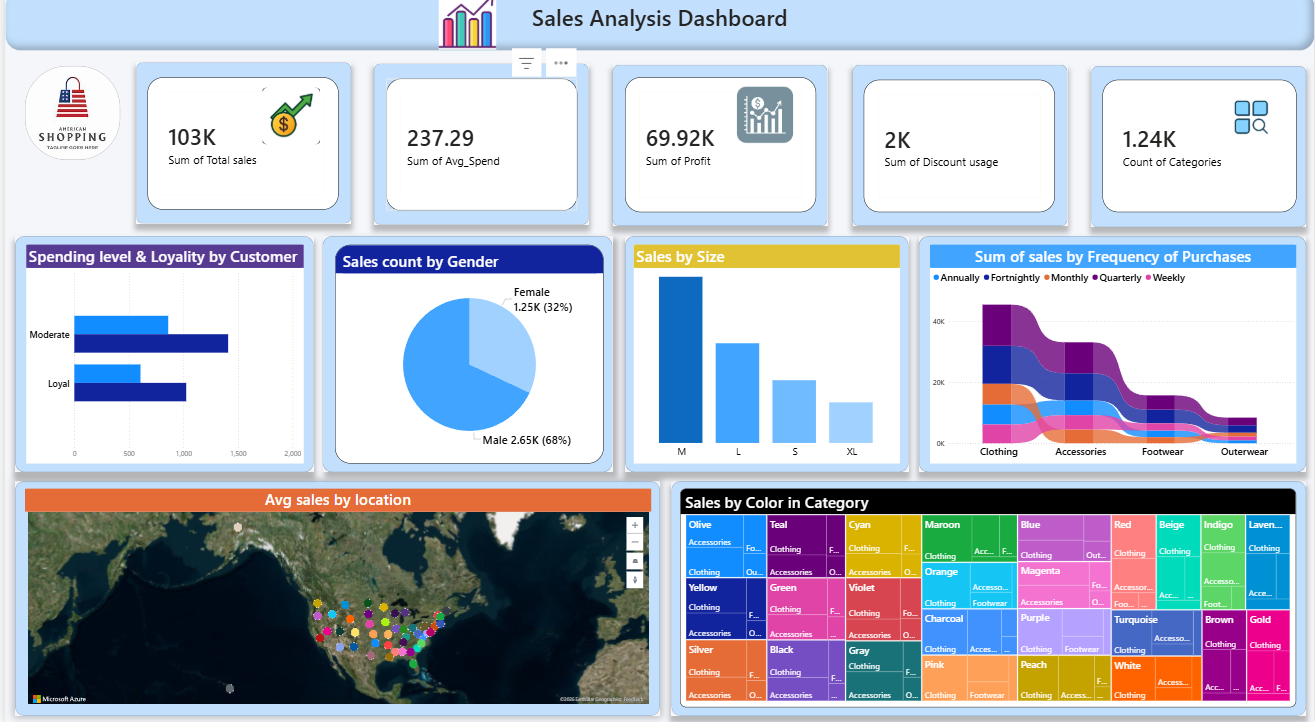

The page's visual inventory and layout, read from the dashboard file:
{"tool":"powerbi","page":{"name":"Sales Analysis","canvas":[2500,1400],"ordinal":0},"visuals":[{"type":"textbox","box":[0,0,2500.4,114.5],"z":0},{"type":"shape","box":[19.1,935.2,1231.1,448.5],"z":1000},{"type":"shape","box":[704.4,137.8,410.4,307.8],"z":2000},{"type":"shape","box":[1160.7,139.6,410.4,307.8],"z":3000},{"type":"shape","box":[1617,141.4,410.4,307.8],"z":4000},{"type":"shape","box":[2073.3,143.2,410.4,307.8],"z":5000},{"type":"shape","box":[250.5,136,410.4,307.8],"z":6000},{"type":"shape","box":[19.1,467.6,570.2,450.9],"z":7000},{"type":"shape","box":[606,467.6,553.5,450.9],"z":8000},{"type":"shape","box":[1183.4,467.6,541.6,450.9],"z":9000},{"type":"shape","box":[1744,467.6,739.6,450.9],"z":10000},{"type":"shape","box":[1271.6,935.2,1212,448.5],"z":11000},{"type":"cardVisual","fields":{"Data":["CountNonNull(project_shopping_trends.Accessories)"]},"box":[2094.8,169.4,370,252.9],"z":12000},{"type":"cardVisual","fields":{"Data":["Sum(project_shopping_trends.Total sales)"]},"box":[272,164.6,365,252.9],"z":13000},{"type":"cardVisual","fields":{"Data":["Sum(Analysis.Avg_Spend)"]},"box":[727.7,167,365,252.9],"z":14000},{"type":"cardVisual","fields":{"Data":["Sum(project_shopping_trends.Profit)"]},"box":[1183.4,164.6,365,257.7],"z":15000},{"type":"cardVisual","fields":{"Data":["Sum(project_shopping_trends.Discount usage)"]},"box":[1639.1,169.4,365,252.9],"z":16000},{"type":"image","box":[38.2,143.2,181.3,178.9],"z":17000},{"type":"azureMap","title":"Avg sales by location","fields":{"Category":["avg spend location.Location"],"Series":["avg spend location.avg_spend"]},"box":[38.2,949.6,1195.3,417.5],"z":18000},{"type":"pieChart","title":"Sales count by Gender","fields":{"Y":["CountNonNull(project_shopping_trends.Gender)"],"Series":["project_shopping_trends.Gender"]},"box":[629.9,484.3,513,417.5],"z":19000},{"type":"ribbonChart","title":"Sum of sales by  Frequency of Purchases","fields":{"Series":["project_shopping_trends.Frequency_of_Purchases"],"Y":["Sum(project_shopping_trends.Total sales)"],"Category":["project_shopping_trends.Category"]},"box":[1765.5,484.3,699,417.5],"z":20000},{"type":"clusteredBarChart","title":"Spending level & Loyality by Customer","fields":{"Category":["project_shopping_trends.Loyalty Level"],"Y":["CountNonNull(project_shopping_trends.Customer_ID)"],"Series":["project_shopping_trends.Spending Level"]},"box":[40.6,484.3,529.7,417.5],"z":21000},{"type":"treemap","title":"Sales by Color in Category","fields":{"Group":["project_shopping_trends.Color"],"Values":["CountNonNull(project_shopping_trends.Customer_ID)"],"Details":["project_shopping_trends.Category"]},"box":[1288.4,949.6,1176.2,417.5],"z":22000},{"type":"columnChart","title":"Sales by Size","fields":{"Category":["project_shopping_trends.Size"],"Y":["CountNonNull(project_shopping_trends.Category)"]},"box":[1200.1,484.3,508.2,417.5],"z":23000},{"type":"image","box":[486.7,183.7,119.3,109.7],"z":24000},{"type":"image","box":[2319,186.1,119.3,109.7],"z":25000},{"type":"image","box":[823.1,2.4,119.3,109.7],"z":26000},{"type":"image","box":[1395.7,181.3,109.7,109.7],"z":27000}]}

Visuals, with their boxes in screenshot pixels (x1, y1, x2, y2), scaled from the page's 2500x1400 canvas onto the 1315x722 screenshot:
textbox: <region>0, 0, 1314, 59</region>
shape: <region>10, 482, 658, 714</region>
shape: <region>371, 71, 586, 230</region>
shape: <region>611, 72, 826, 231</region>
shape: <region>851, 73, 1066, 232</region>
shape: <region>1091, 74, 1306, 233</region>
shape: <region>132, 70, 348, 229</region>
shape: <region>10, 241, 310, 474</region>
shape: <region>319, 241, 610, 474</region>
shape: <region>622, 241, 907, 474</region>
shape: <region>917, 241, 1306, 474</region>
shape: <region>669, 482, 1306, 714</region>
cardVisual - CountNonNull(project_shopping_trends.Accessories): <region>1102, 87, 1296, 218</region>
cardVisual - Sum(project_shopping_trends.Total sales): <region>143, 85, 335, 215</region>
cardVisual - Sum(Analysis.Avg_Spend): <region>383, 86, 575, 217</region>
cardVisual - Sum(project_shopping_trends.Profit): <region>622, 85, 814, 218</region>
cardVisual - Sum(project_shopping_trends.Discount usage): <region>862, 87, 1054, 218</region>
image: <region>20, 74, 115, 166</region>
"Avg sales by location" azureMap: <region>20, 490, 649, 705</region>
"Sales count by Gender" pieChart: <region>331, 250, 601, 465</region>
"Sum of sales by  Frequency of Purchases" ribbonChart: <region>929, 250, 1296, 465</region>
"Spending level & Loyality by Customer" clusteredBarChart: <region>21, 250, 300, 465</region>
"Sales by Color in Category" treemap: <region>678, 490, 1296, 705</region>
"Sales by Size" columnChart: <region>631, 250, 899, 465</region>
image: <region>256, 95, 319, 151</region>
image: <region>1220, 96, 1283, 153</region>
image: <region>433, 1, 496, 58</region>
image: <region>734, 93, 792, 150</region>
